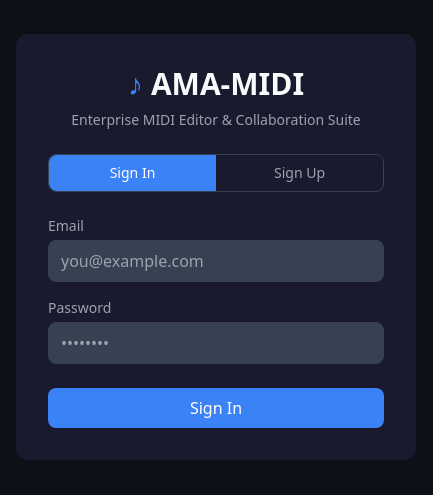
Scenario: AuthPage › displays ApiHttpError message
Type "a@b.com" into the field labelled "Email" at (216, 261), box [48,240,384,282]
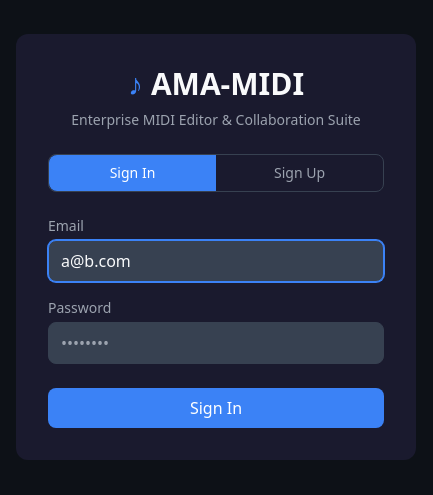
Type "wrong" into the password field labelled "Password" at (216, 343), box [48,322,384,364]
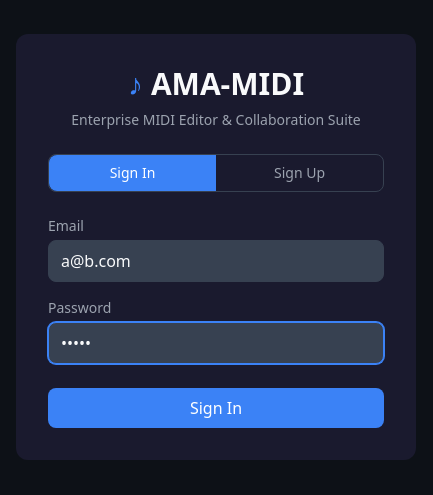
Click the button "Sign In" below "Password" at (216, 408), box [48,388,384,428]
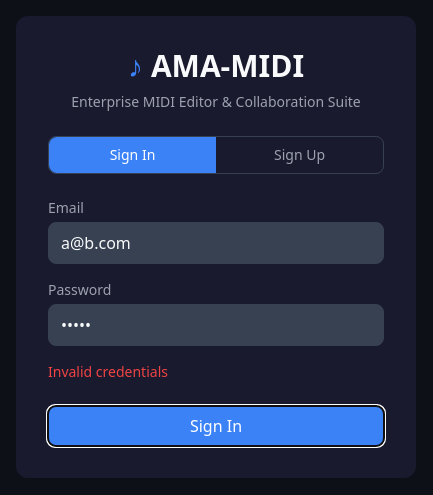
Expected: the text "Invalid credentials" is shown, [48,362,168,381]
